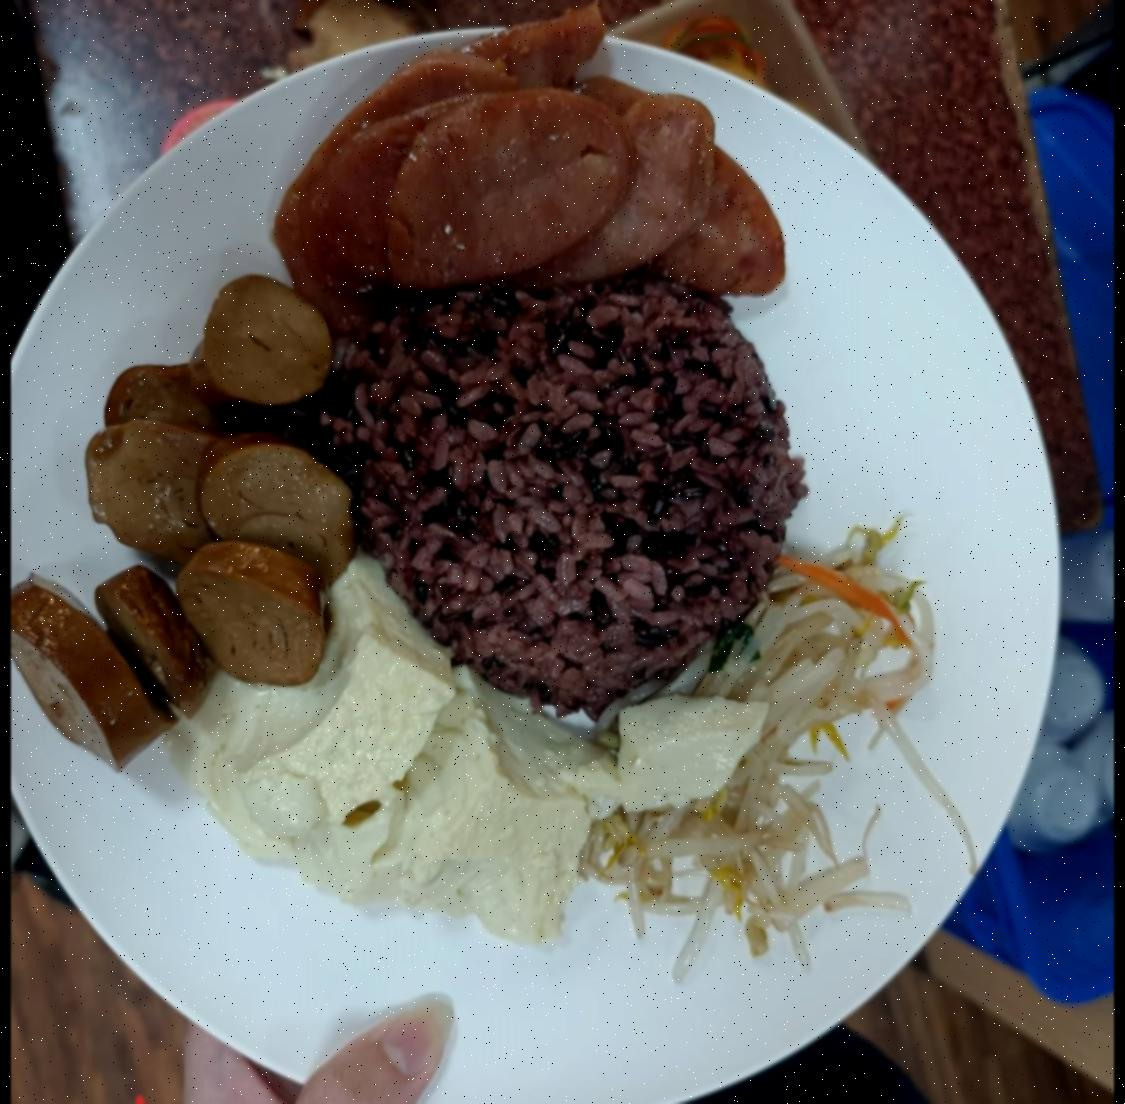plate: (10, 9, 1056, 1104)
purple rice: (355, 275, 789, 666)
sausage: (293, 34, 784, 306)
side dish: (206, 625, 617, 929), (64, 281, 331, 729), (627, 568, 940, 937)
